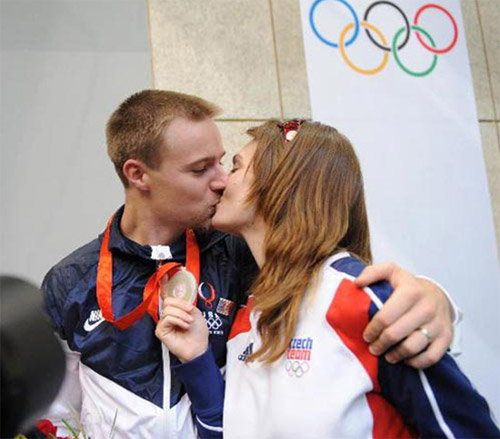face: (161, 116, 226, 227), (216, 134, 268, 228)
